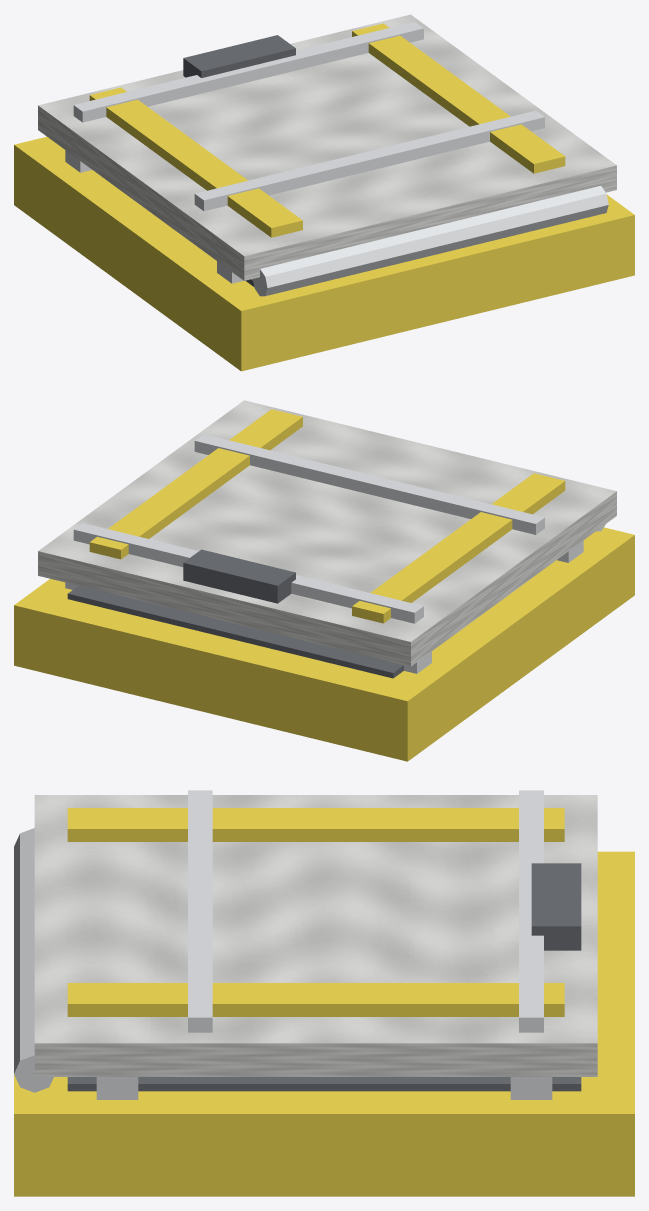
Rendered from cruise-ship-deck-and-lounge-cruise-ship-deck-and-loung-85eaf013__38422.glb.
The picture shows the model from 3 angles, top to bottom: view 1: azimuth 30°, elevation 25°; view 2: azimuth 150°, elevation 25°; view 3: azimuth 270°, elevation 25°; orthographic projection. The views are drawn at different scales.
Visible parts, largest first — view 1: hatch-lid/white, cruise-ship-deck-and-lounge-deck-hatch, hatch-lid/yellow (×2), hatch-lid/steel (×2), hatch-lid/charcoal; view 2: hatch-lid/white, cruise-ship-deck-and-lounge-deck-hatch, hatch-lid/yellow (×2), hatch-lid/steel (×2), hatch-lid/charcoal; view 3: hatch-lid/white, cruise-ship-deck-and-lounge-deck-hatch, hatch-lid/yellow (×2), hatch-lid/steel (×2), hatch-lid/charcoal.
Part boxes in pixels (x1=…): hatch-lid/white: x1=38, y1=14, x2=616, y2=280; cruise-ship-deck-and-lounge-deck-hatch: x1=14, y1=136, x2=634, y2=371; hatch-lid/yellow (×2): x1=89, y1=23, x2=565, y2=237; hatch-lid/steel (×2): x1=73, y1=22, x2=544, y2=211; hatch-lid/charcoal: x1=183, y1=35, x2=295, y2=77; hatch-lid/white: x1=38, y1=400, x2=616, y2=666; cruise-ship-deck-and-lounge-deck-hatch: x1=14, y1=524, x2=634, y2=761; hatch-lid/yellow (×2): x1=89, y1=409, x2=565, y2=623; hatch-lid/steel (×2): x1=73, y1=434, x2=544, y2=623; hatch-lid/charcoal: x1=183, y1=549, x2=295, y2=603; hatch-lid/white: x1=34, y1=795, x2=597, y2=1076; cruise-ship-deck-and-lounge-deck-hatch: x1=14, y1=828, x2=634, y2=1196; hatch-lid/yellow (×2): x1=67, y1=808, x2=564, y2=1016; hatch-lid/steel (×2): x1=188, y1=790, x2=543, y2=1032; hatch-lid/charcoal: x1=531, y1=863, x2=581, y2=950.
Bounding box in the file's own units: 1.5 × 0.455 × 1.5.
5 materials, 2 textured.
